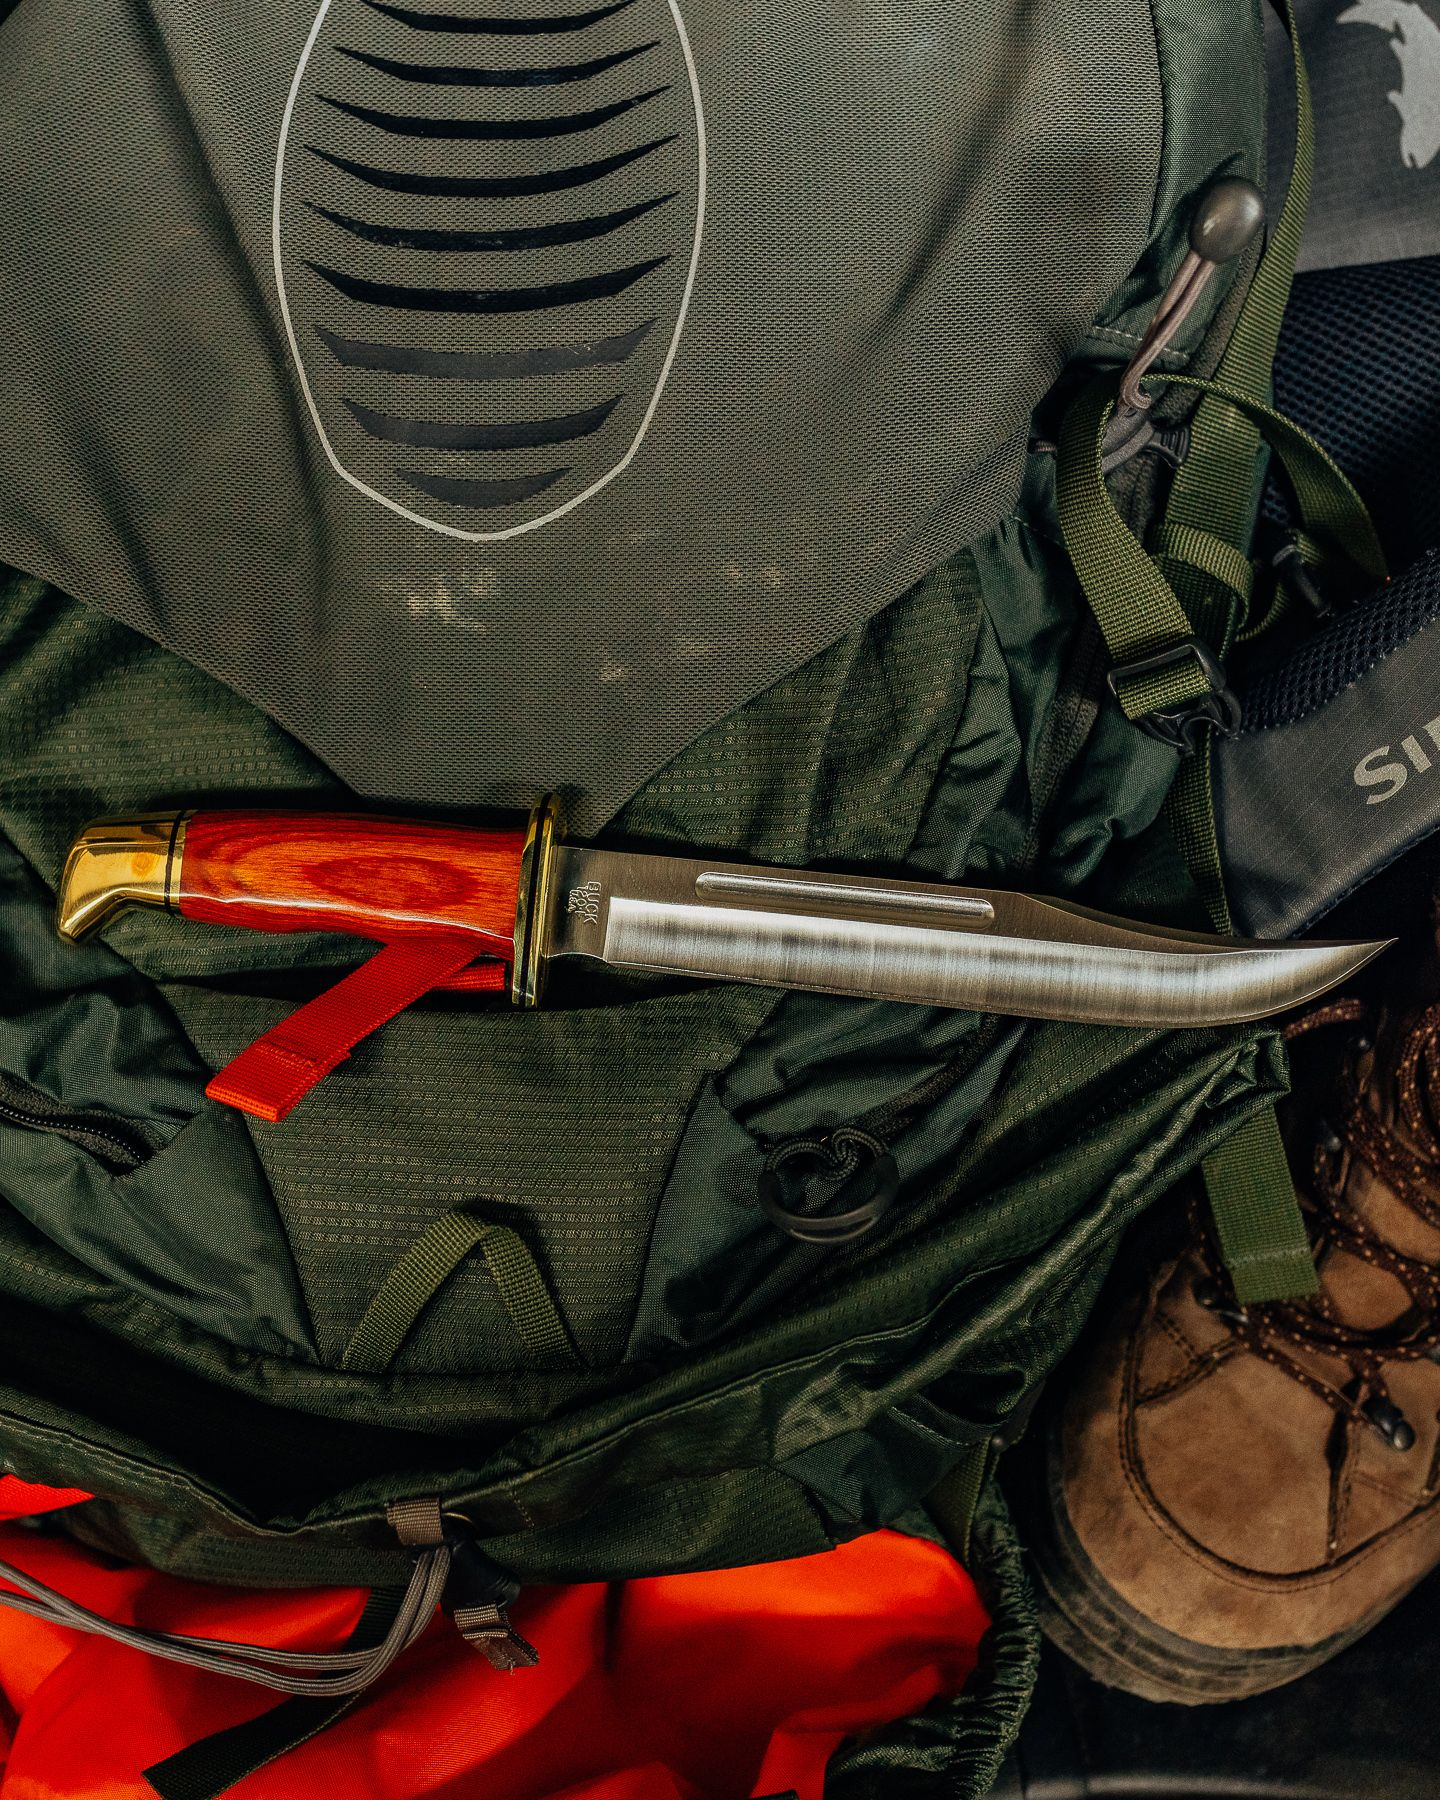knife: (40, 799, 1409, 1109)
